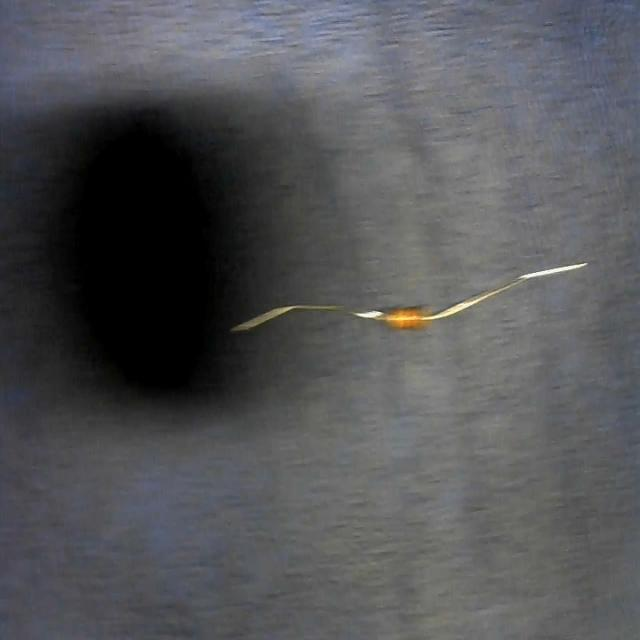resistor: (237, 264, 588, 334)
